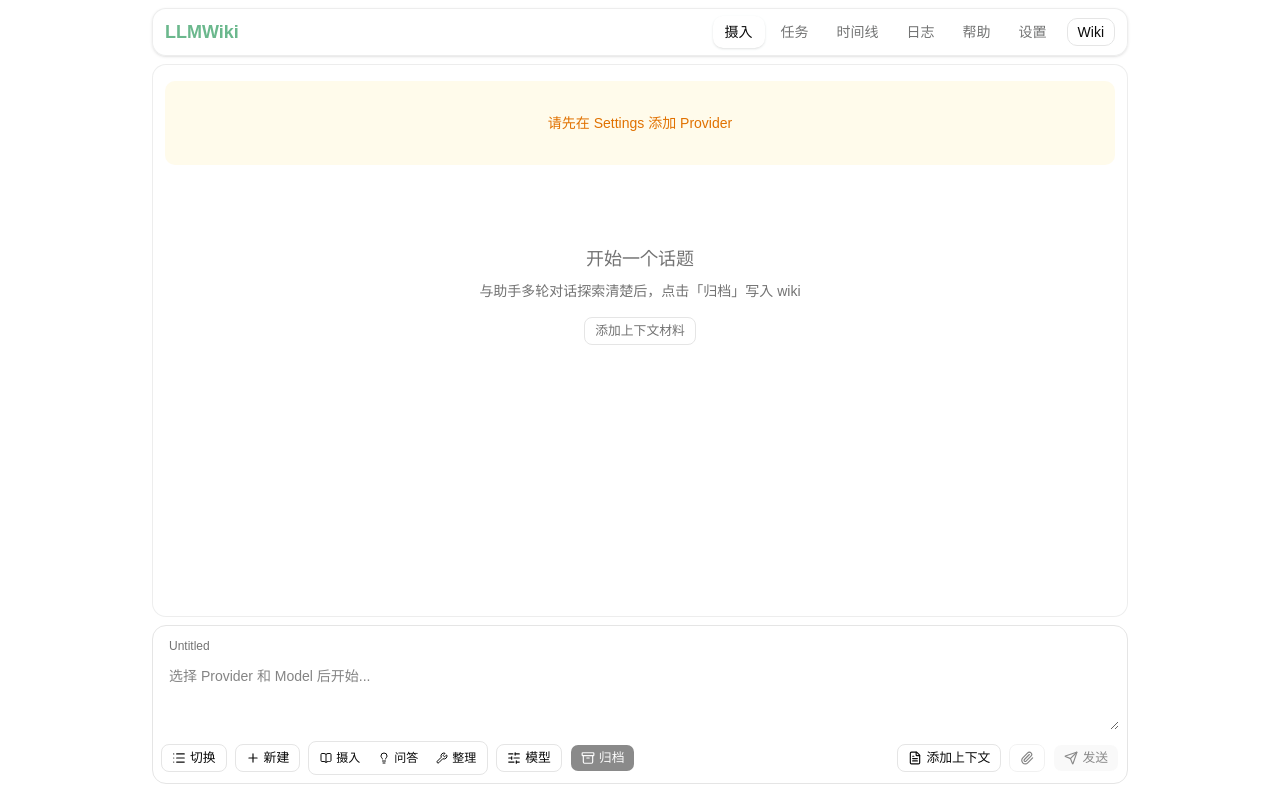
Test: App navigation › defaults to ingest chat and uses button navigation
Expected: the number of buttons "摄入" is 1, 713,16 -> 765,48
Expected: the button "模型" is shown, 496,744 -> 562,772
Click the button "设置". click: point(1033, 32)
box: 1007,16 -> 1059,48
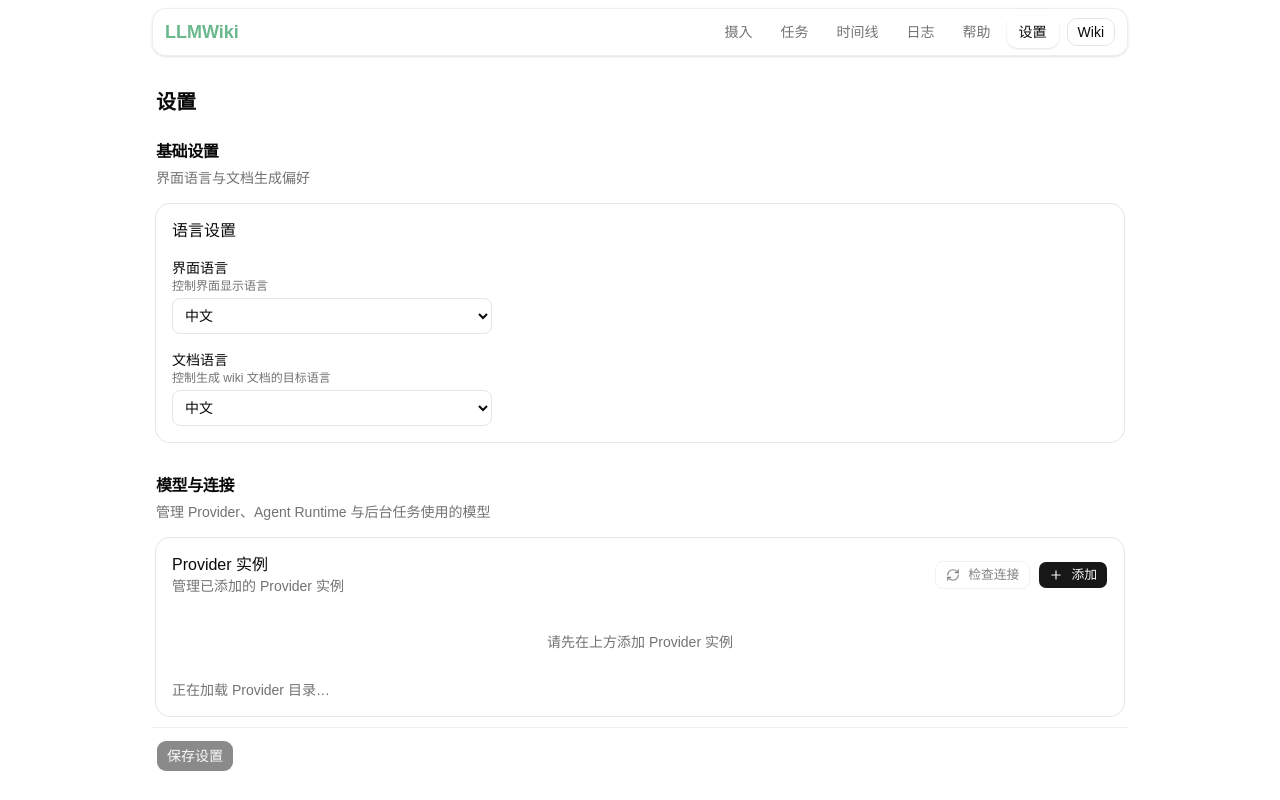
Now the heading "设置" is shown, box 156,91 -> 196,113
Click the button "任务". click: point(795, 32)
box: 769,16 -> 821,48
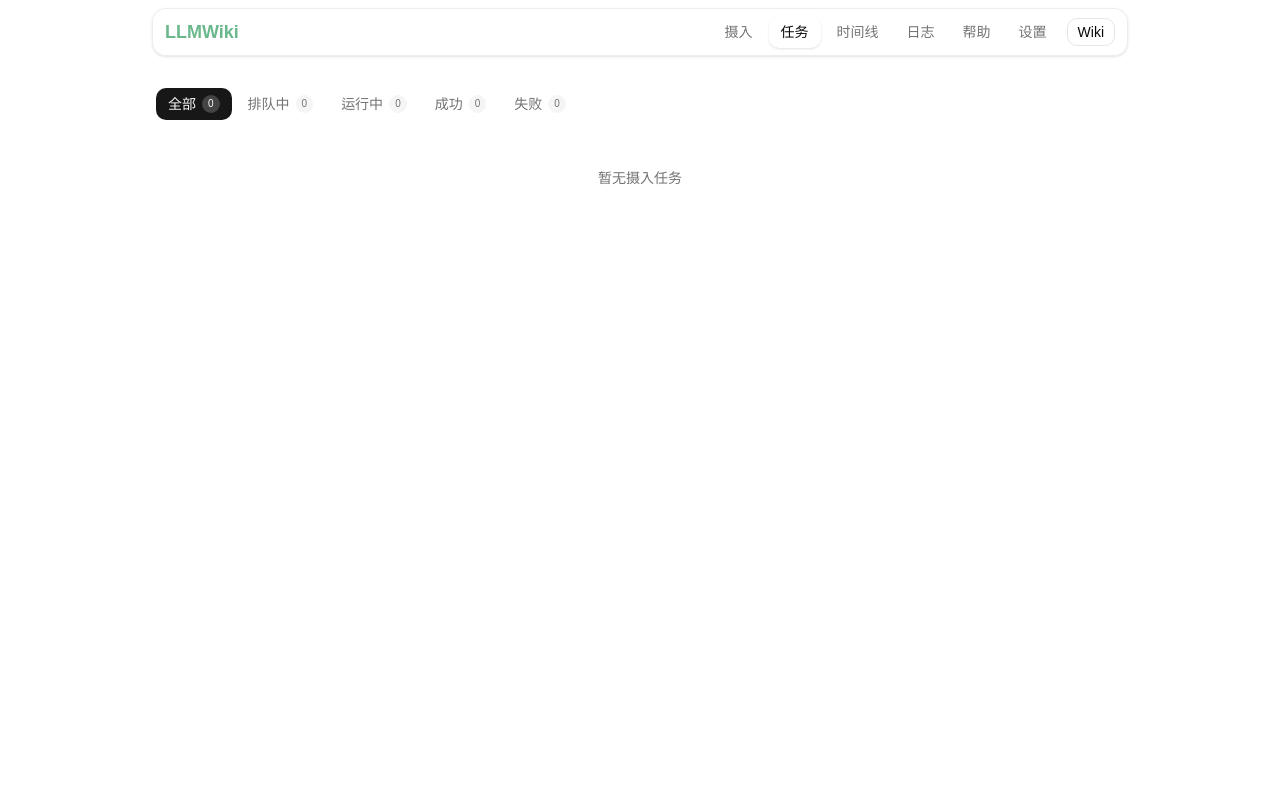
Now the text "暂无摄入任务" is shown, box 598,170 -> 682,186
Click the button "日志". click: point(921, 32)
box: 895,16 -> 947,48
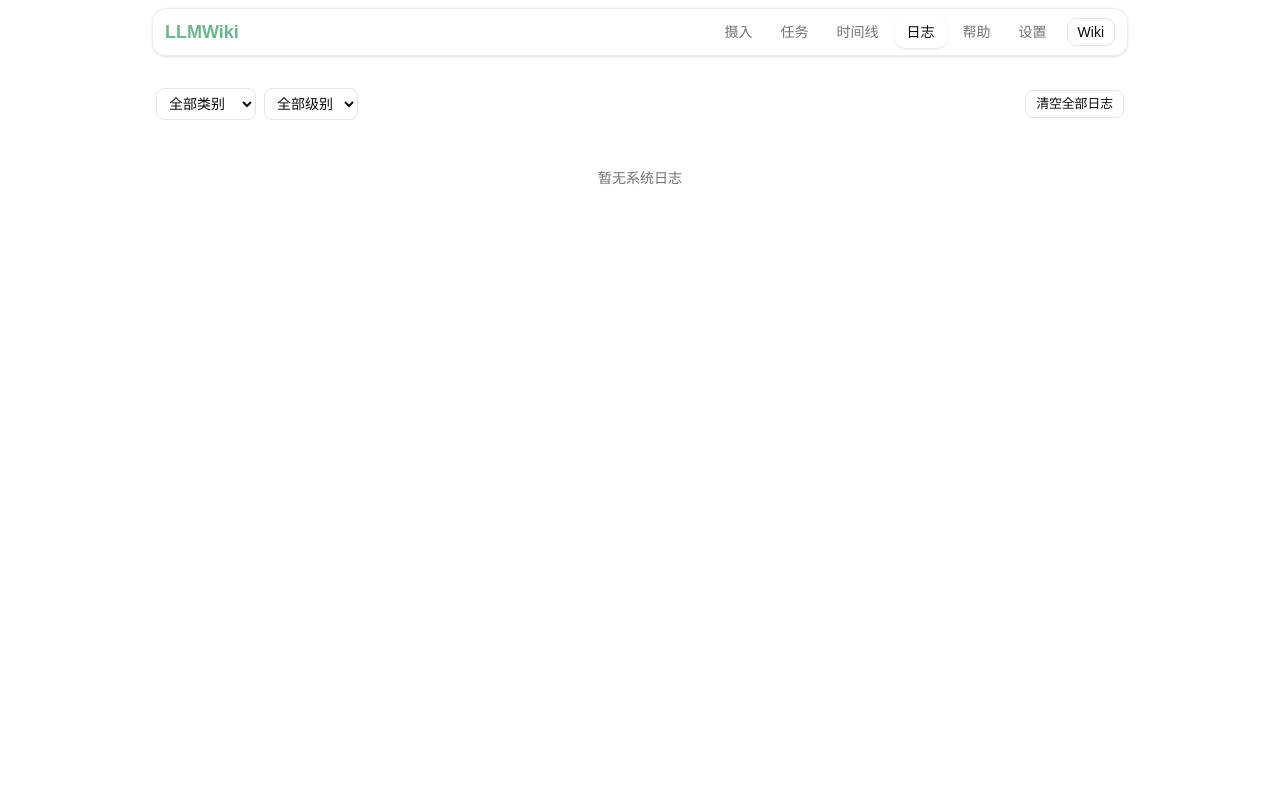
Now the text "暂无系统日志" is shown, box 598,170 -> 682,186
Click the button "帮助". click: point(977, 32)
box: 951,16 -> 1003,48
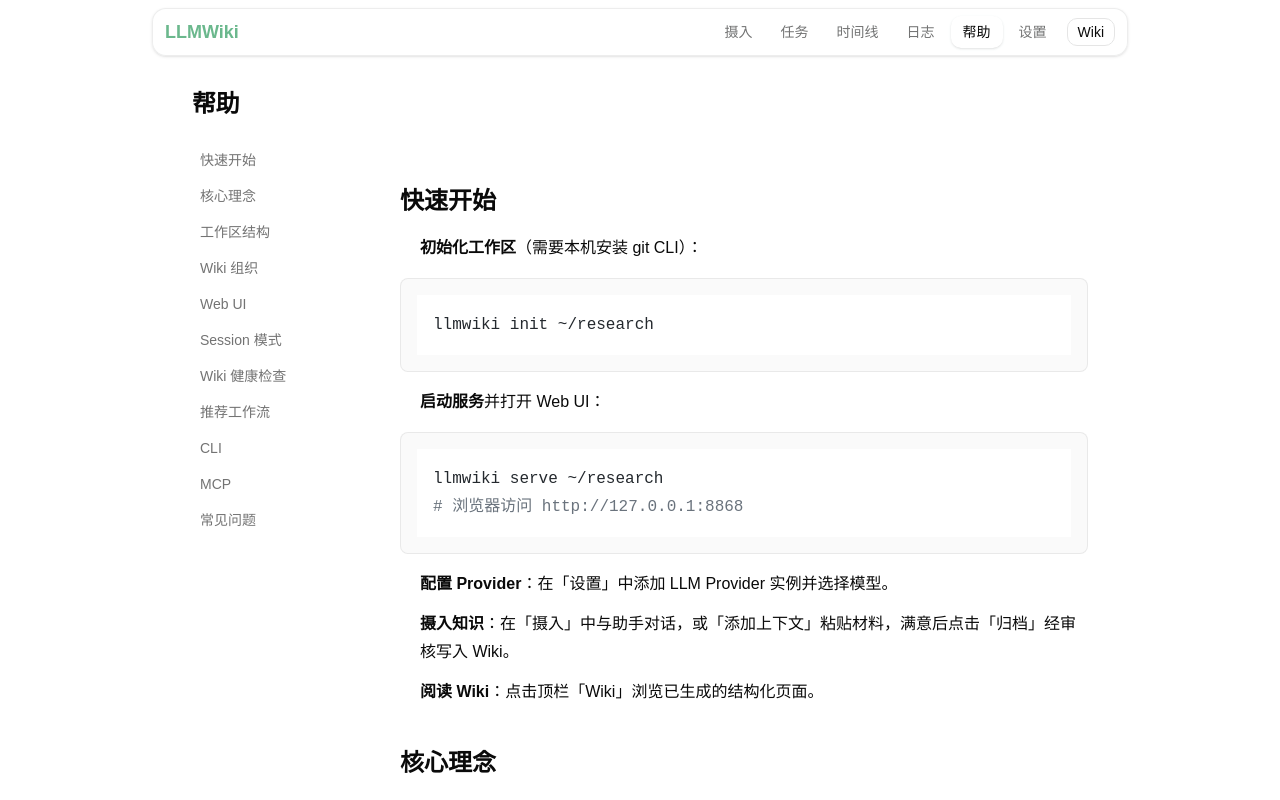
Now the heading "帮助" is shown, box 192,90 -> 239,117
